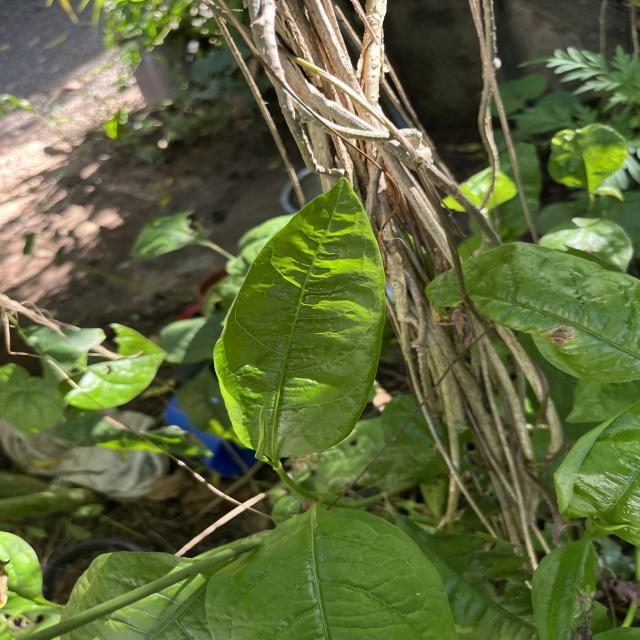Plumbago indica: (210, 172, 390, 462), (421, 240, 640, 386)
